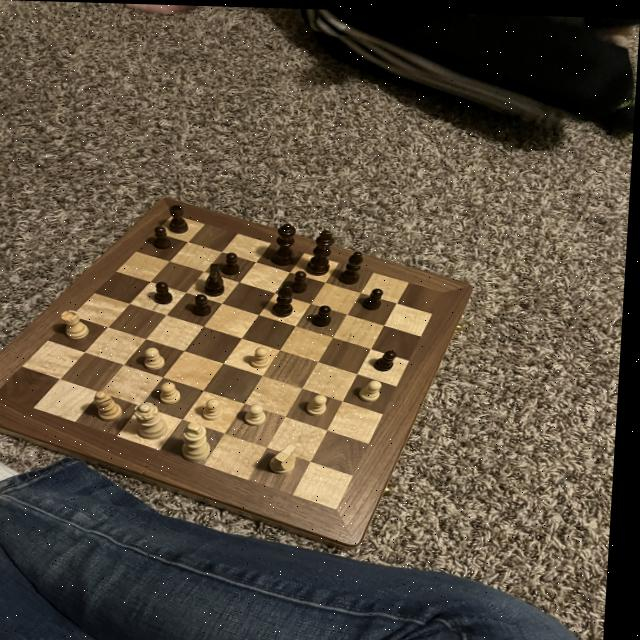black-bishop: (306, 224, 341, 275)
black-king: (204, 259, 232, 296)
black-knight: (151, 278, 180, 307), (375, 345, 405, 370), (363, 284, 390, 311), (313, 302, 343, 326), (152, 223, 175, 251), (193, 291, 217, 317), (292, 266, 314, 293), (224, 250, 243, 277)
black-pawn: (270, 220, 304, 267), (272, 277, 301, 318), (340, 245, 371, 283)
black-queen: (169, 201, 194, 234)
black-rook: (96, 388, 132, 422)
white-bishop: (185, 419, 219, 463)
white-king: (269, 440, 307, 477)
white-knight: (158, 378, 192, 404), (145, 343, 174, 372), (247, 399, 276, 426), (361, 376, 389, 401), (309, 390, 335, 415), (249, 343, 274, 369), (204, 396, 230, 420)
white-pawn: (135, 398, 178, 443)
white-queen: (62, 307, 97, 340)
